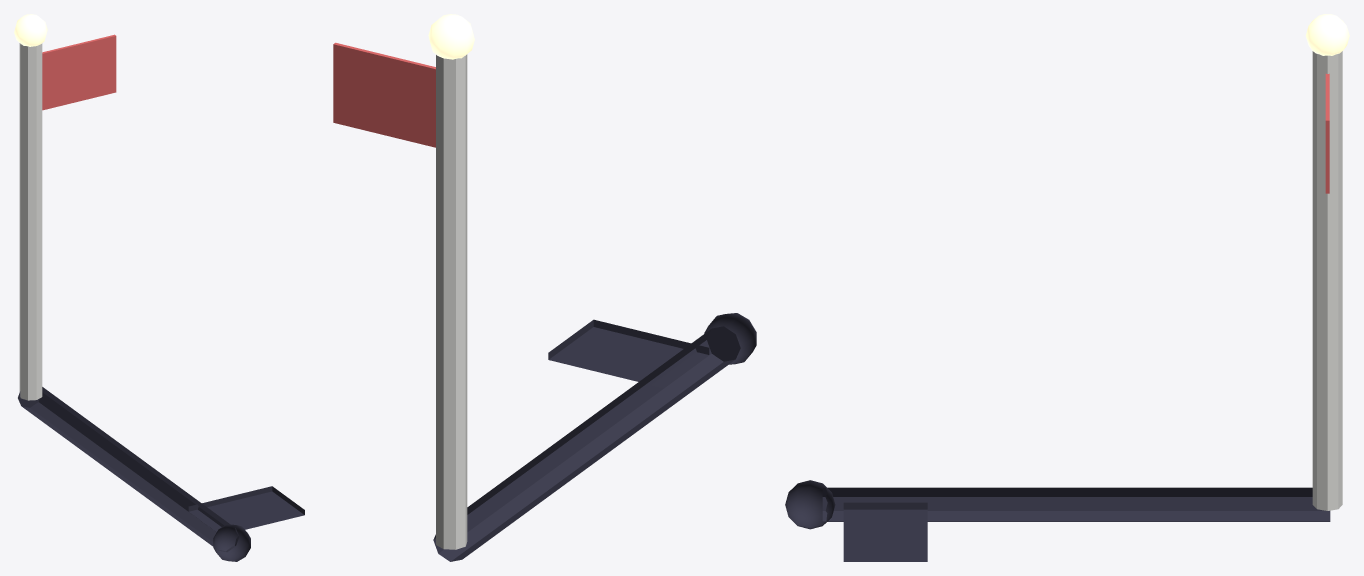
File: Baliza.fbx
The picture shows the model from 3 angles, left to right: view 1: azimuth 30°, elevation 25°; view 2: azimuth 150°, elevation 25°; view 3: azimuth 270°, elevation 25°; orthographic projection. The views are drawn at different scales.
Visible parts, largest first — view 1: Baliza_Torre, Baliza_Torre_Contorno, Baliza_Bandera, Baliza_Bandera_Contorno, Baliza_Luz_Contorno, Baliza_Luz; view 2: Baliza_Torre, Baliza_Torre_Contorno, Baliza_Bandera, Baliza_Bandera_Contorno, Baliza_Luz, Baliza_Luz_Contorno; view 3: Baliza_Torre_Contorno, Baliza_Torre, Baliza_Bandera_Contorno, Baliza_Luz_Contorno, Baliza_Luz.
Boxes of the visible parts, bbox=[...] form: Baliza_Torre: bbox=[19, 43, 42, 400]; Baliza_Torre_Contorno: bbox=[18, 387, 239, 552]; Baliza_Bandera: bbox=[42, 34, 116, 110]; Baliza_Bandera_Contorno: bbox=[188, 486, 304, 531]; Baliza_Luz_Contorno: bbox=[213, 524, 250, 561]; Baliza_Luz: bbox=[14, 14, 47, 46]; Baliza_Torre: bbox=[436, 54, 467, 549]; Baliza_Torre_Contorno: bbox=[433, 326, 740, 561]; Baliza_Bandera: bbox=[333, 42, 435, 147]; Baliza_Bandera_Contorno: bbox=[548, 319, 709, 387]; Baliza_Luz: bbox=[428, 14, 474, 59]; Baliza_Luz_Contorno: bbox=[704, 313, 756, 364]; Baliza_Torre_Contorno: bbox=[822, 487, 1330, 521]; Baliza_Torre: bbox=[1312, 51, 1342, 510]; Baliza_Bandera_Contorno: bbox=[843, 502, 927, 561]; Baliza_Luz_Contorno: bbox=[785, 480, 835, 529]; Baliza_Luz: bbox=[1305, 14, 1349, 55].
Bounding box in the file's own units: 1.51 × 5.62 × 5.62.
